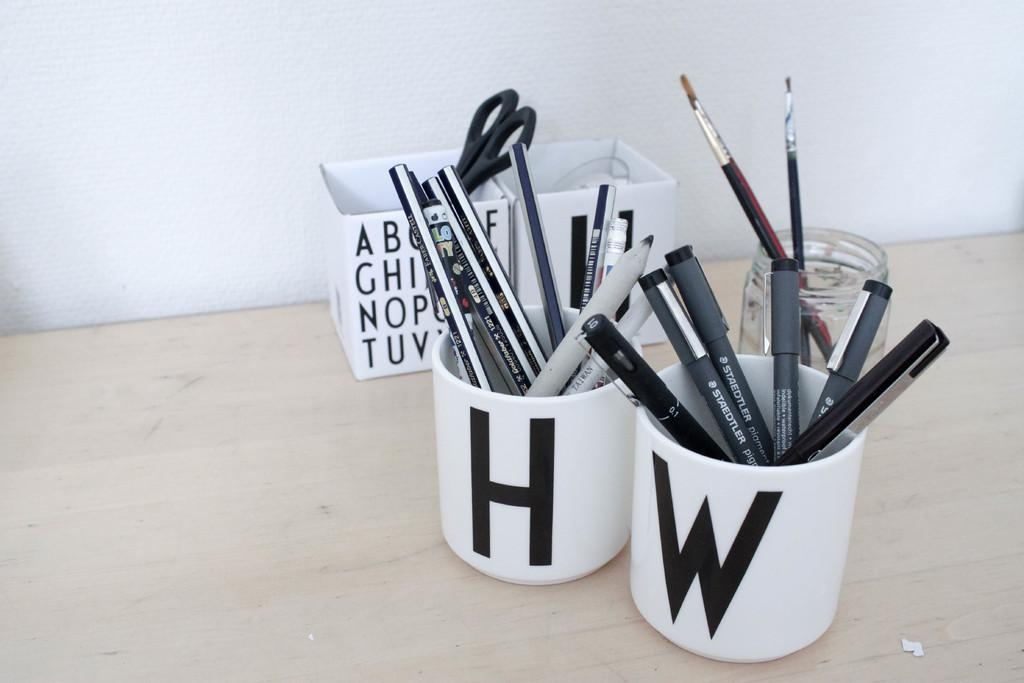pen: (581, 241, 954, 463)
